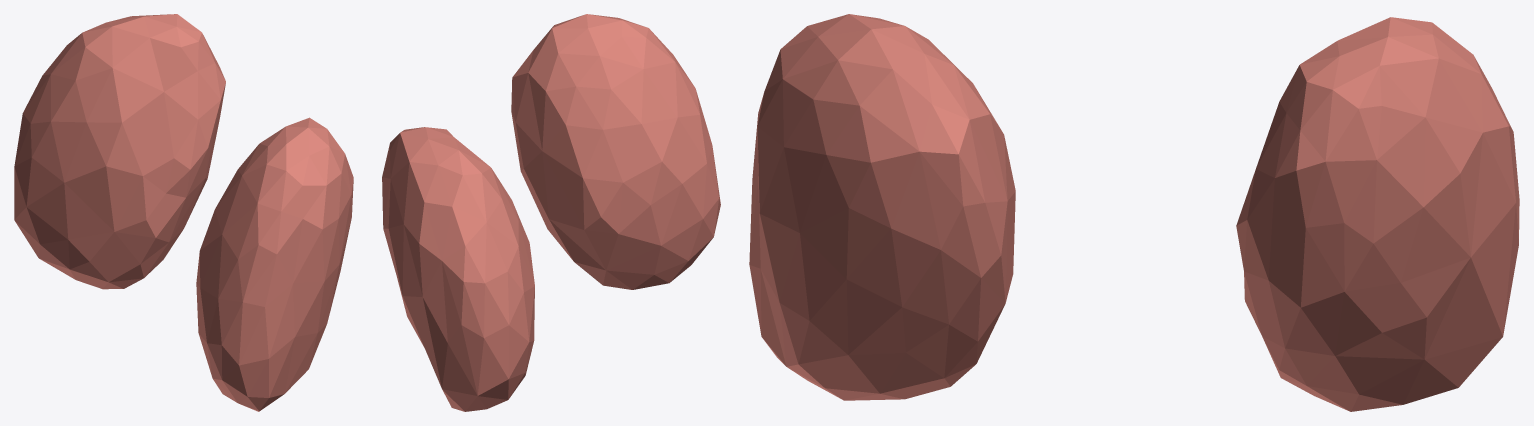
The picture shows the model from 3 angles, left to right: view 1: azimuth 30°, elevation 25°; view 2: azimuth 150°, elevation 25°; view 3: azimuth 270°, elevation 25°; orthographic projection. The views are drawn at different scales.
Visible parts, largest first — view 1: 72.obj; view 2: 72.obj; view 3: 72.obj.
Boxes of the visible parts, <box> form: 72.obj: <box>14,14,353,411</box>; 72.obj: <box>382,14,720,411</box>; 72.obj: <box>749,14,1519,411</box>.
Size of the model in its own units: 362 by 540 by 908.
